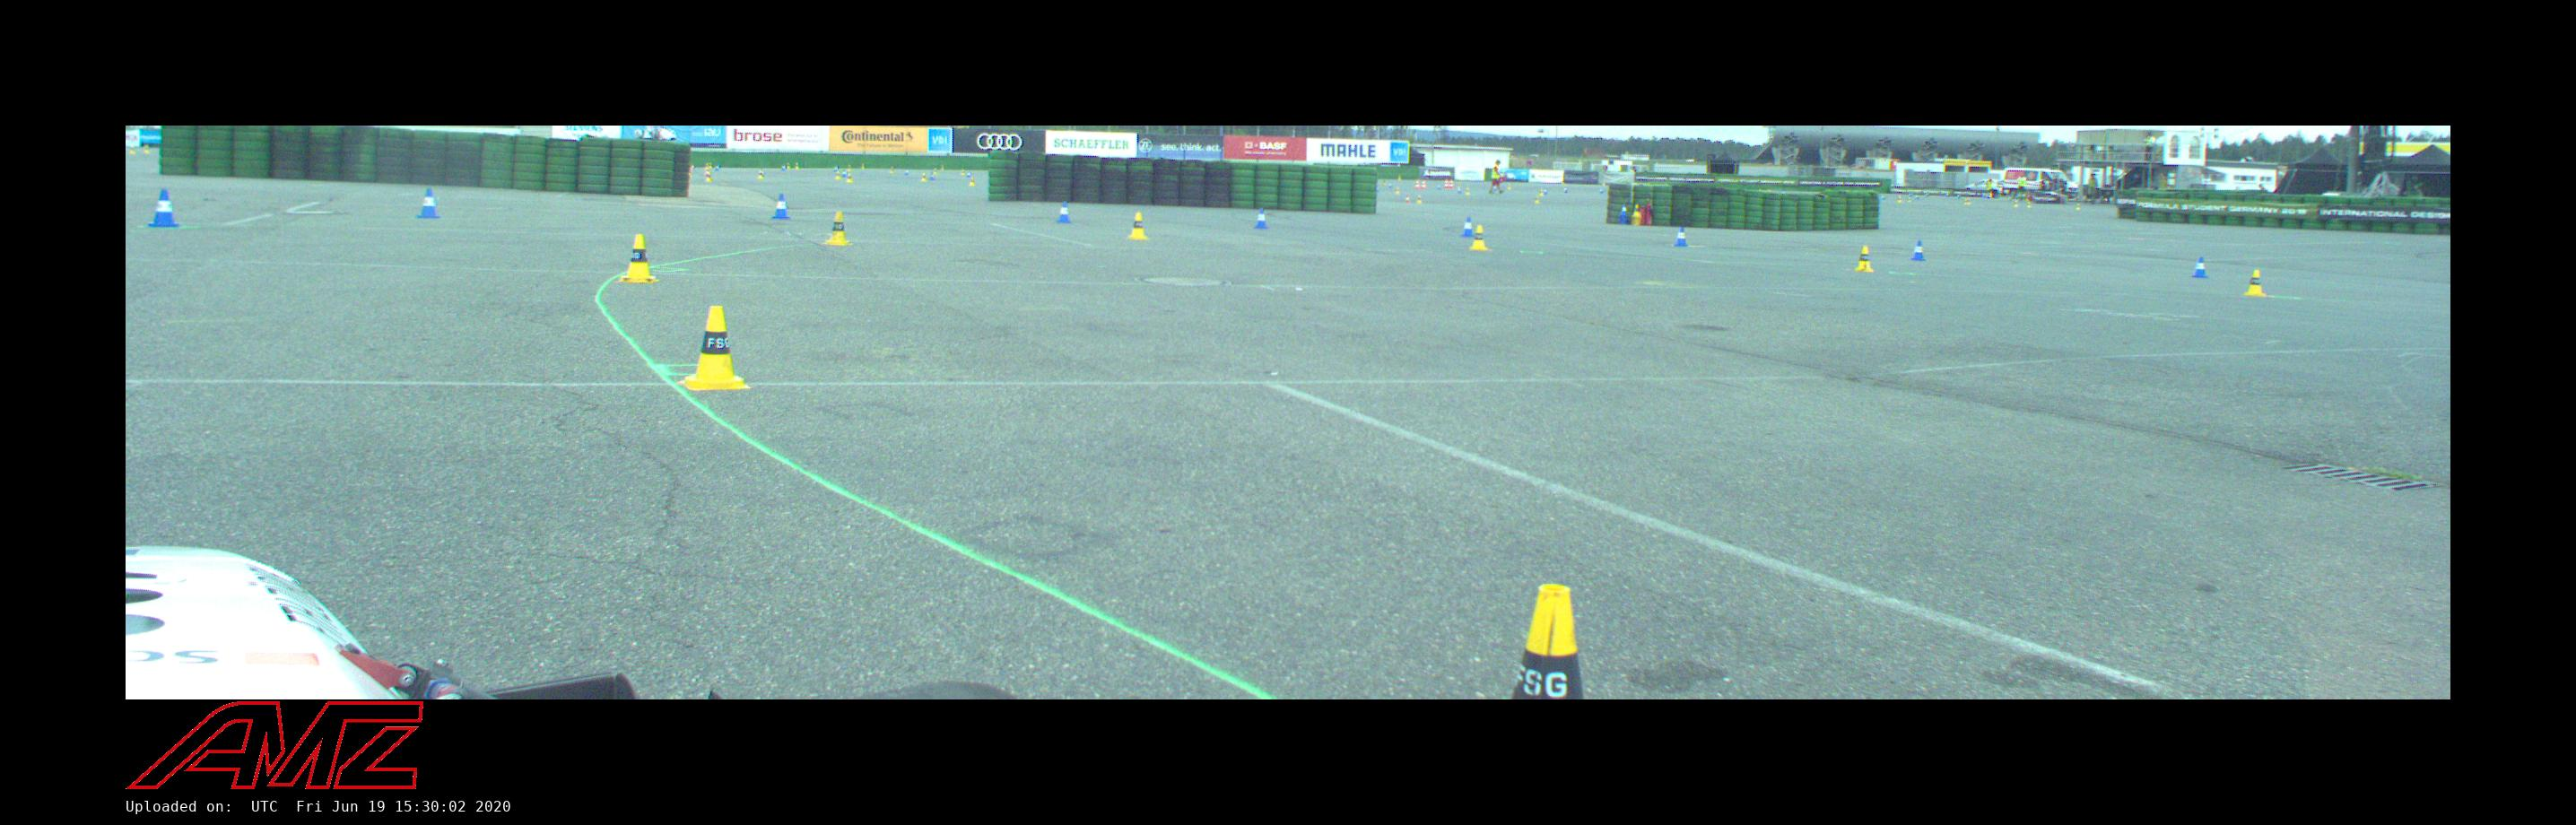blue_cone: (148, 187, 179, 228), (416, 186, 440, 219), (769, 192, 792, 219), (1909, 240, 1925, 261), (2192, 256, 2208, 278), (1056, 200, 1071, 224), (1254, 209, 1268, 230), (1459, 217, 1474, 237), (1674, 227, 1687, 247), (1618, 204, 1626, 217)
yellow_cone: (1513, 583, 1585, 698), (680, 306, 751, 391), (618, 233, 657, 283), (823, 212, 853, 247), (2242, 270, 2266, 296), (1127, 212, 1148, 240), (1853, 245, 1875, 271), (1469, 225, 1488, 251), (1631, 204, 1641, 217)
